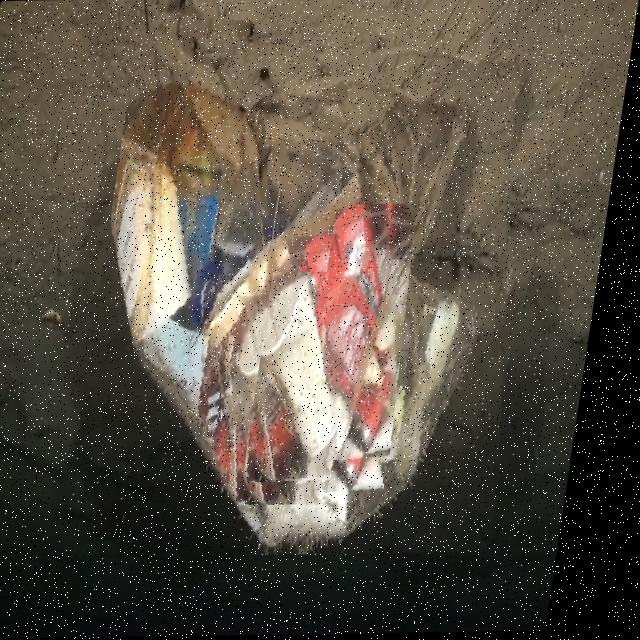litter: (77, 20, 579, 557), (312, 204, 433, 464), (256, 271, 369, 482)
